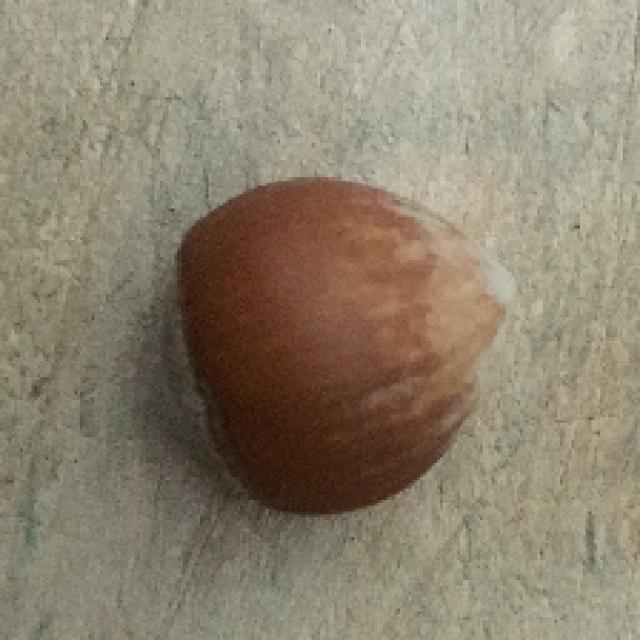qualityHazelnut: (158, 174, 516, 519)
